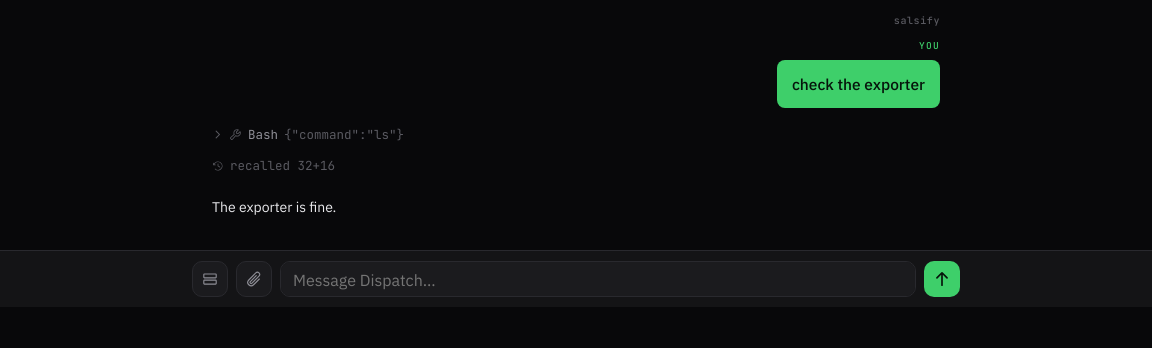
Test: EndlessColumn › keeps the draft and shows the error when the send fails, with no unhandled rejection
Type "keep me" into the text box labelled "Message". click: point(598, 280)
box: [280,262,916,298]
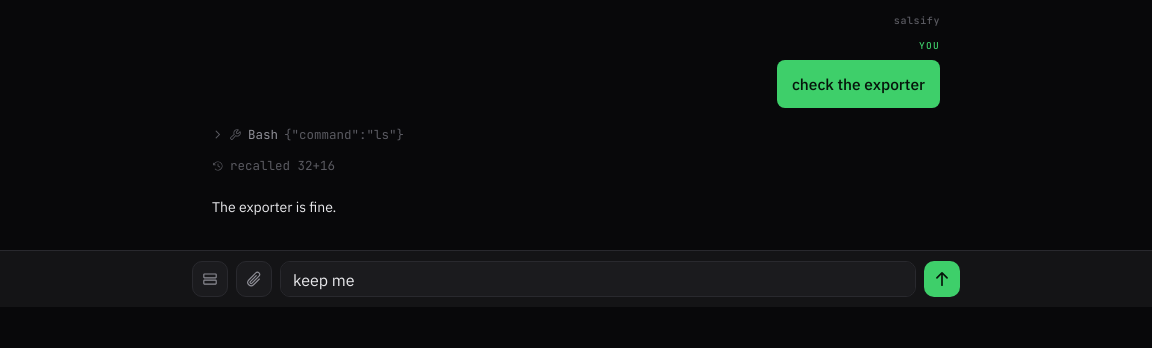
Press Enter in the text box named "Message", box [280,262,916,298]
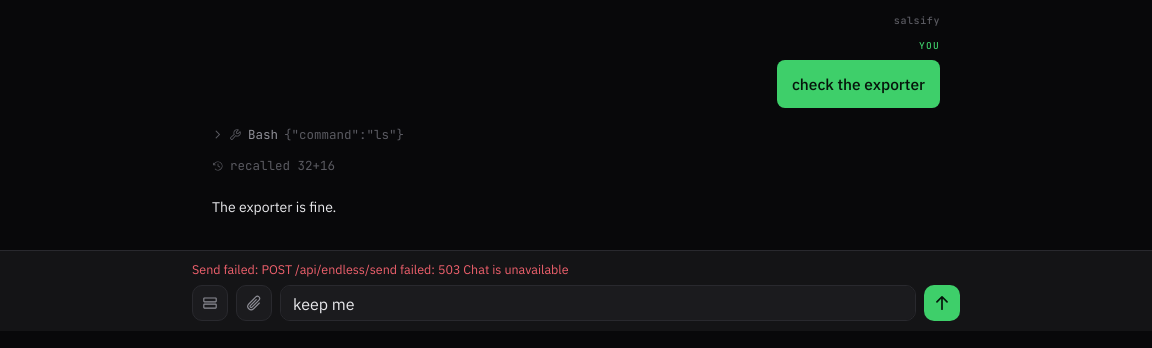
Now the text "Send failed: POST /api/endless/send failed: 503 Chat is unavailable" is shown, box [192,262,569,278]
